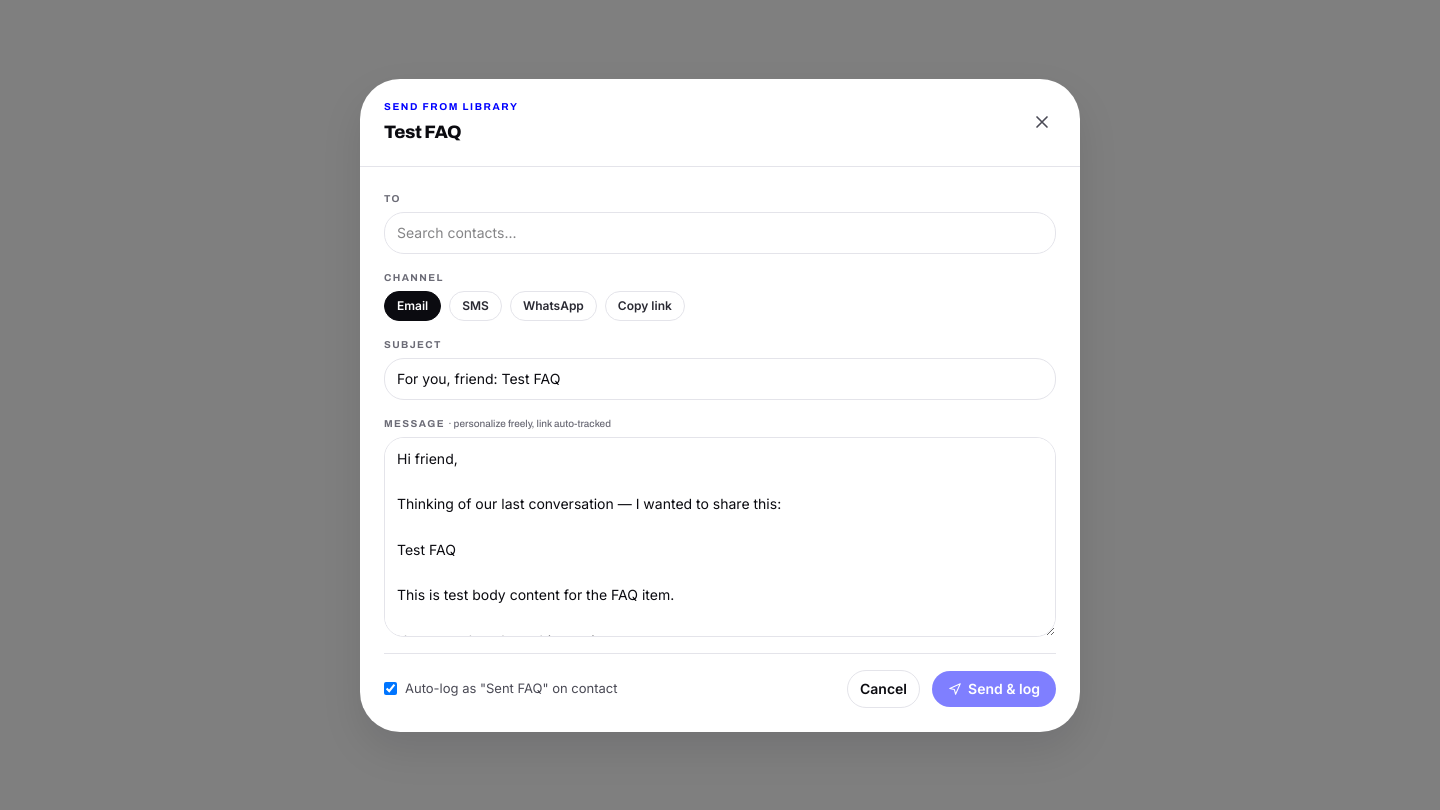
SendComposer › typeahead search filters prospects by name
In the field with test id "send-composer-to-input": (720, 232) x1=384 y1=212 x2=1056 y2=254, type "Bob"
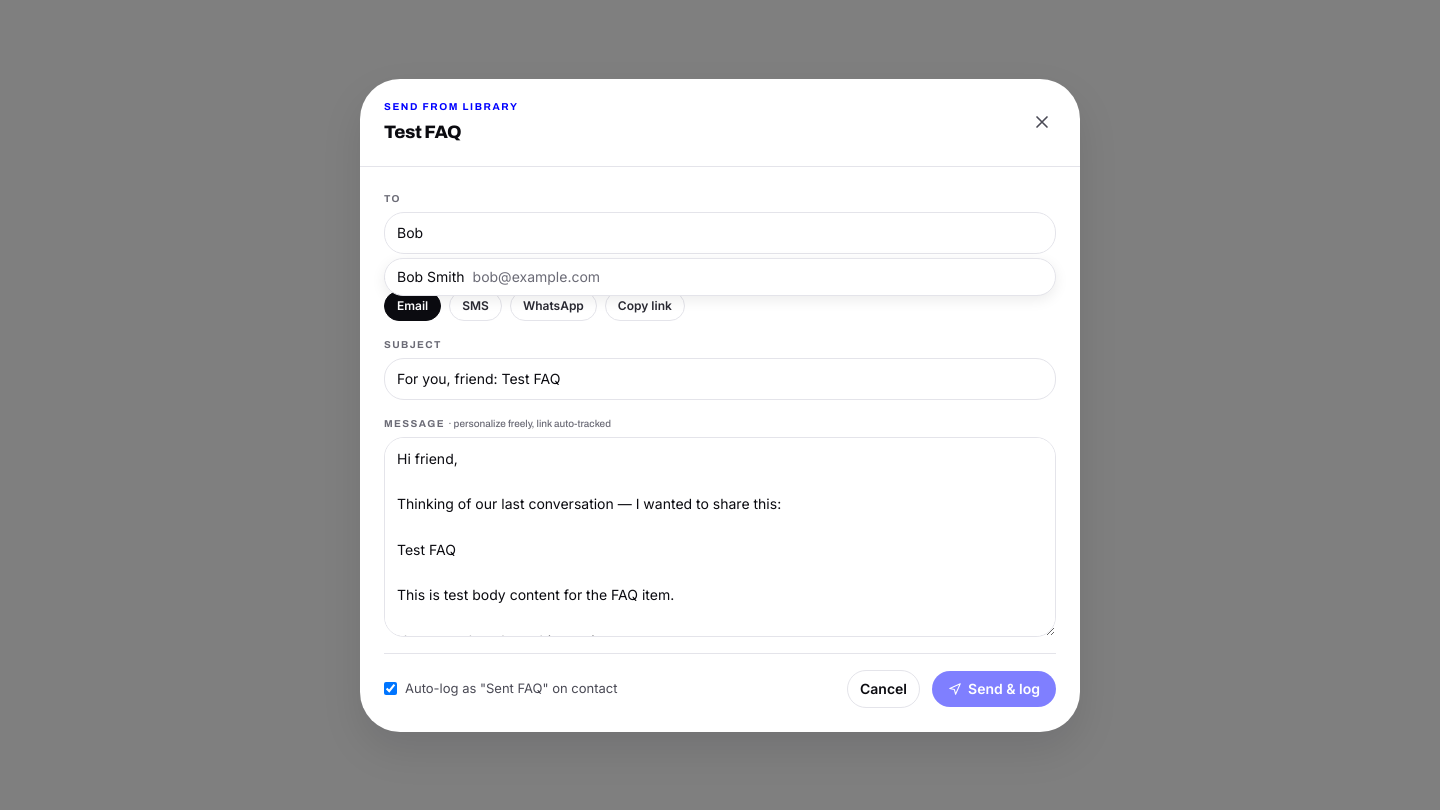
expect the button "Bob Smith" is shown: met, box x1=385 y1=258 x2=1055 y2=294
